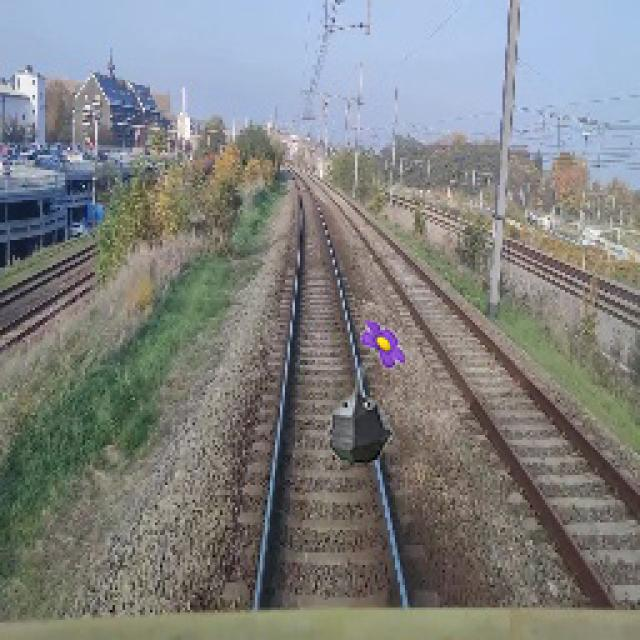danger: (323, 318, 408, 473)
rail: (311, 177, 640, 610), (219, 163, 455, 609)
